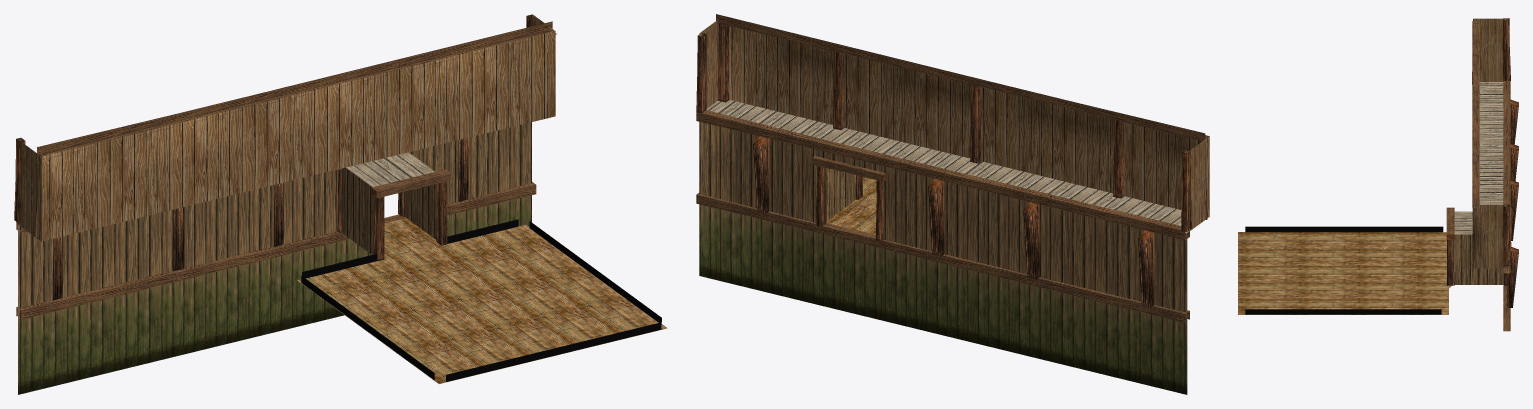
The model's file is LAKETOWN_WAREHOUSE2_PS_WH2_SIDEWALL38837__GX.fbx.
The picture shows the model from 3 angles, left to right: view 1: azimuth 30°, elevation 25°; view 2: azimuth 150°, elevation 25°; view 3: azimuth 270°, elevation 25°; orthographic projection. The views are drawn at different scales.
Visible parts, largest first — view 1: LAKETOWN_WAREHOUSE2_PS_WH2_SIDEWALL38837__GX; view 2: LAKETOWN_WAREHOUSE2_PS_WH2_SIDEWALL38837__GX; view 3: LAKETOWN_WAREHOUSE2_PS_WH2_SIDEWALL38837__GX.
Boxes of the visible parts, <box> form: LAKETOWN_WAREHOUSE2_PS_WH2_SIDEWALL38837__GX: <box>14,14,667,394</box>; LAKETOWN_WAREHOUSE2_PS_WH2_SIDEWALL38837__GX: <box>696,14,1209,394</box>; LAKETOWN_WAREHOUSE2_PS_WH2_SIDEWALL38837__GX: <box>1238,18,1518,331</box>.
Bounding box in the file's own units: 226654 × 109530 × 143354.
12 materials, 12 textured.
